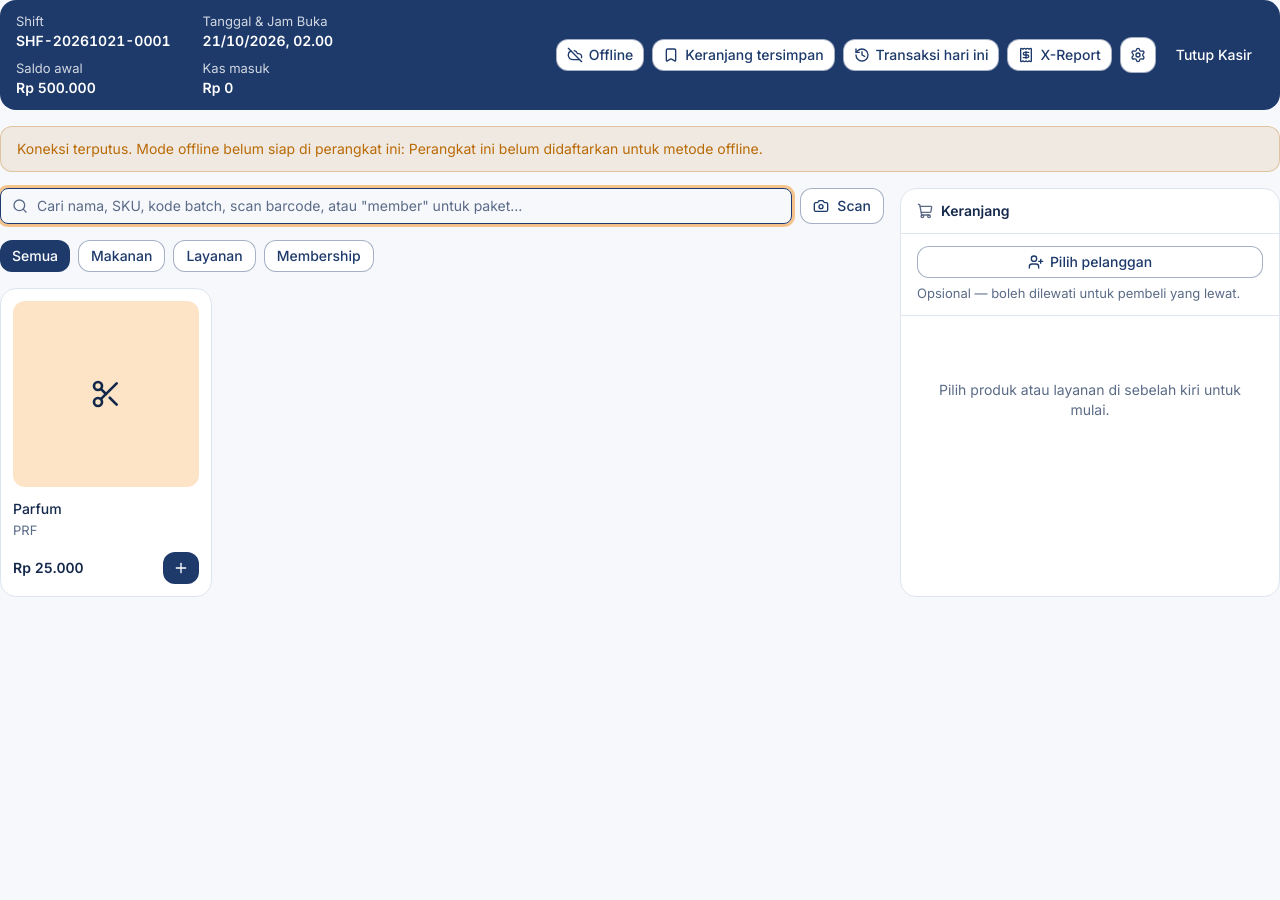
an add-on picked alone at the till › lists the basket's and the diary's grooming in the animal dialog, then 'Booking baru'
Click the button "Pilih pelanggan": (1090, 262) [917,246,1263,278]
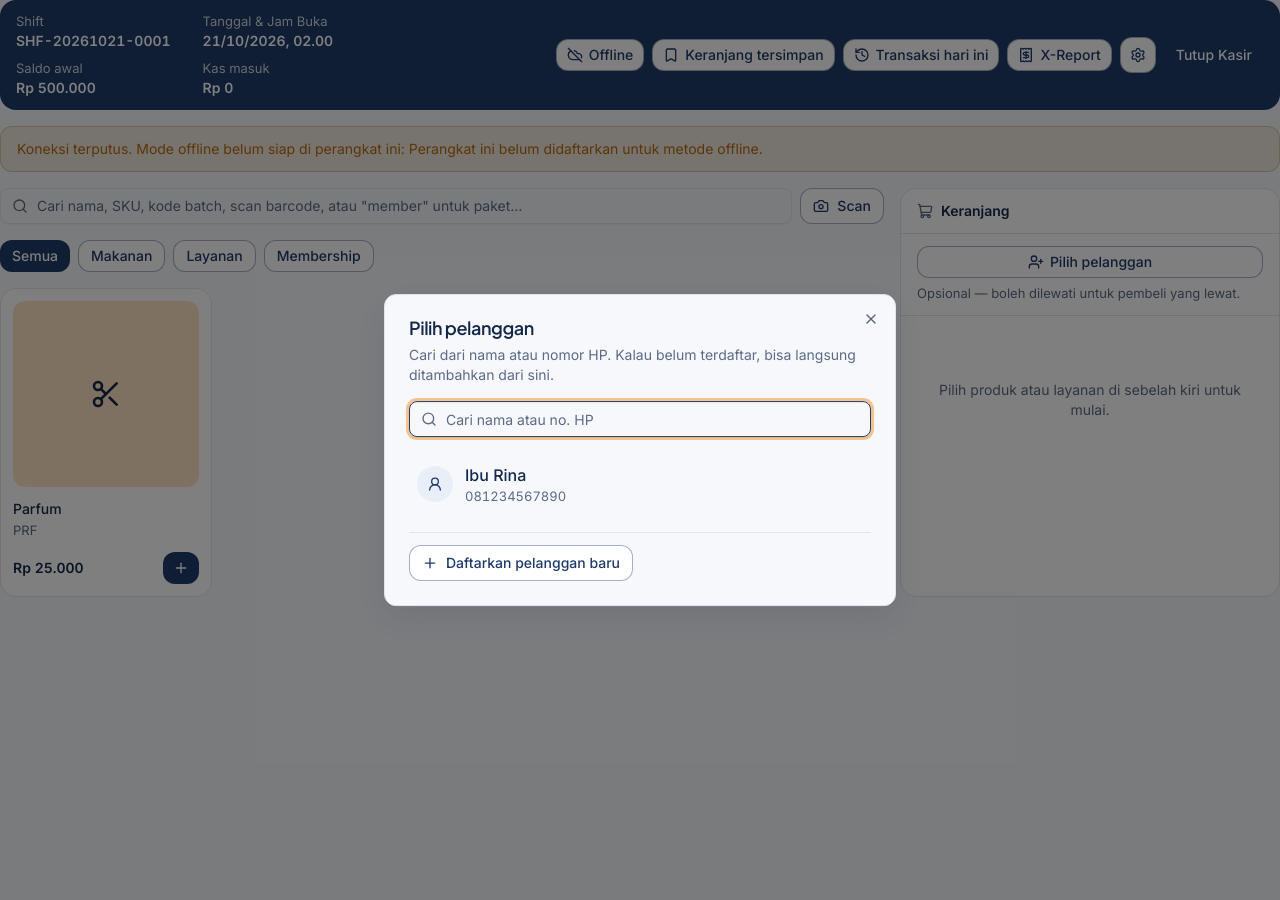
Click the text "Ibu Rina": (496, 475) [465,465,526,485]
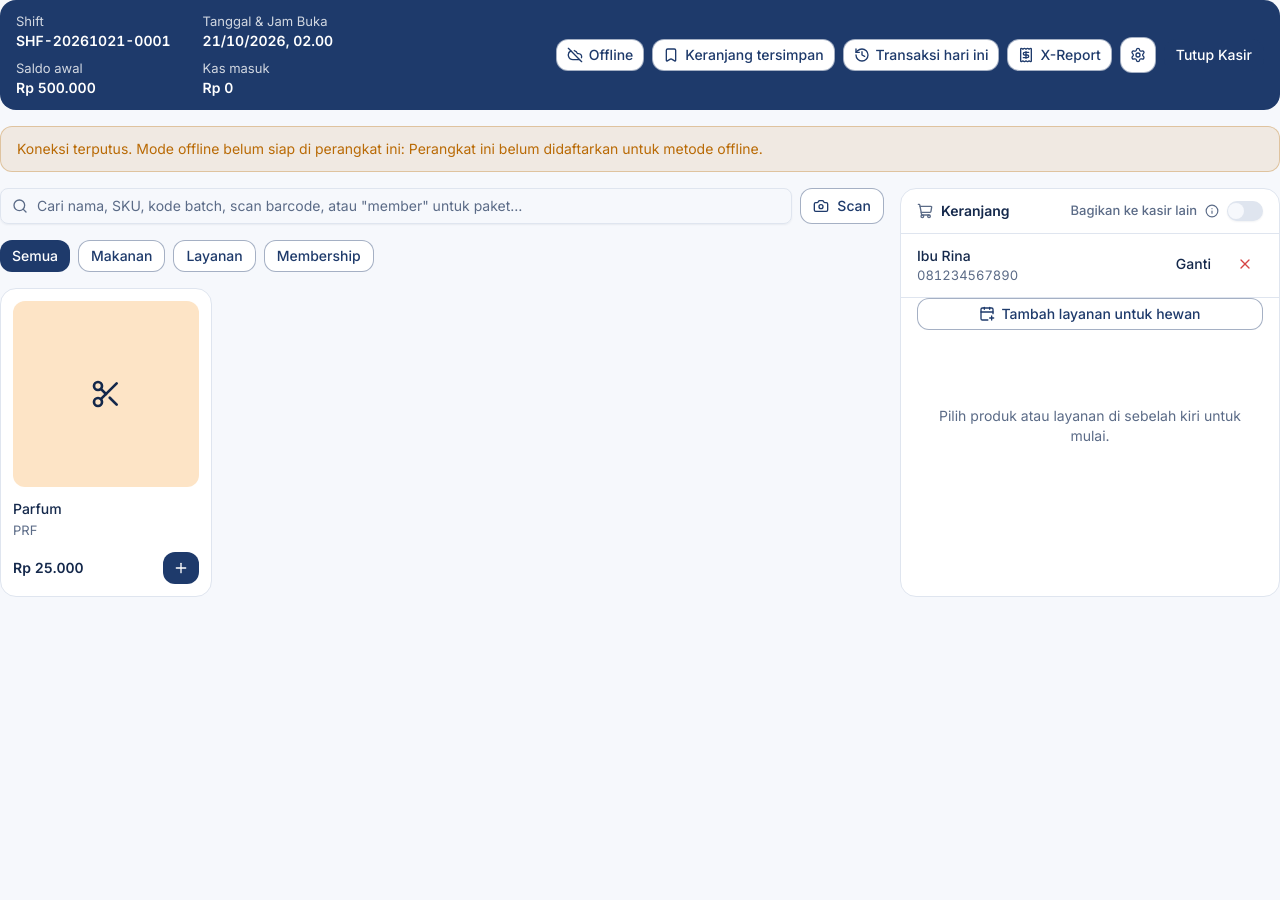
Click the button named "parfum": (181, 568) [163,552,199,584]
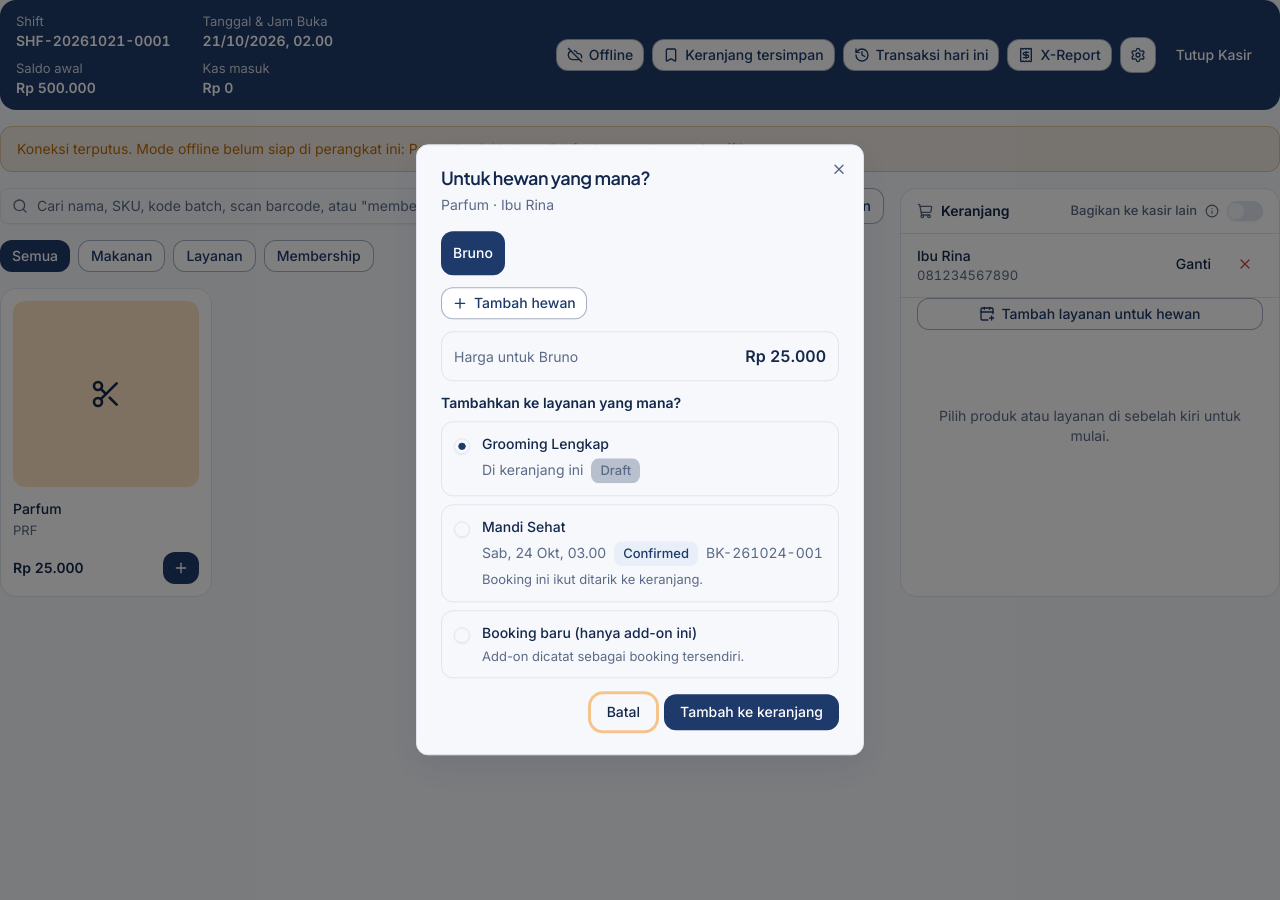
Expected: the text "Rp 25.000" is shown, [745,344,826,368]
Expected: the text "Tambahkan ke layanan yang mana?" is shown, [441,393,681,413]
Expected: the text "Grooming Lengkap" is shown, [482,434,609,454]
